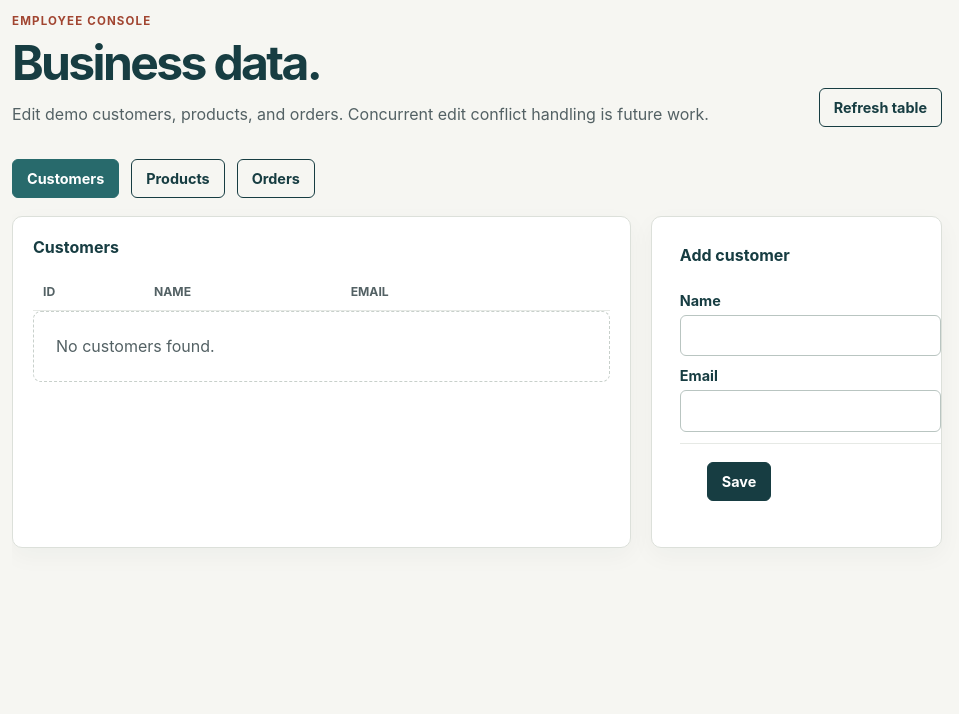
Scenario: ignores a table response after another table is selected
Step 1. Click the tab "Products" → (178,178), box top-left (131, 159), bottom-right (225, 198)
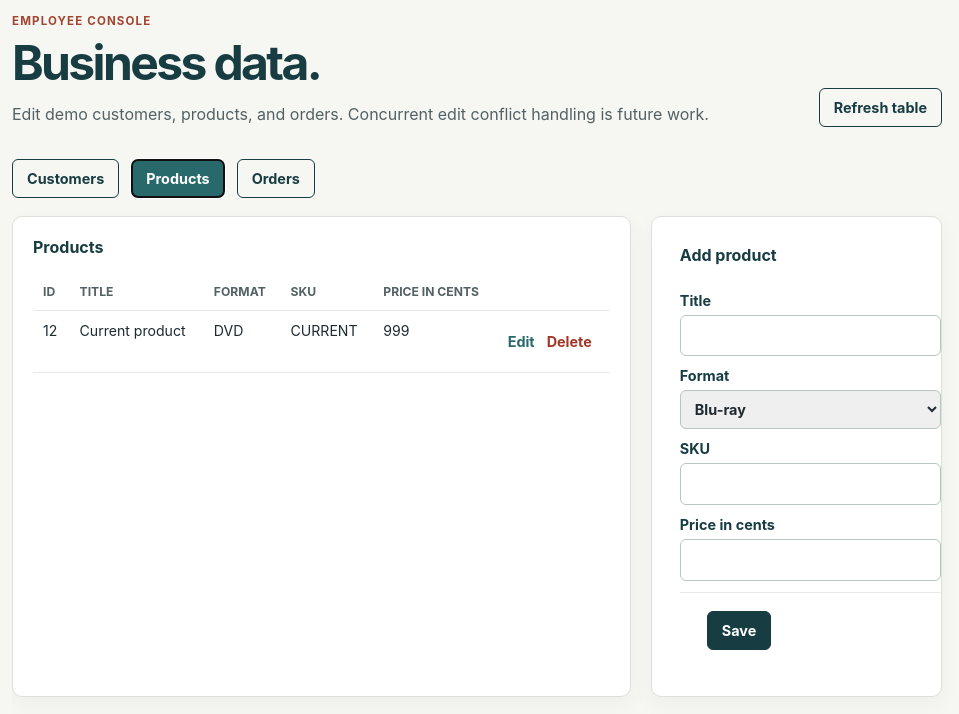
Check: the text "Current product" is shown, box top-left (70, 310), bottom-right (204, 372)
